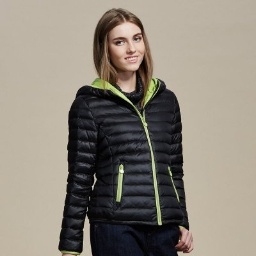face: (93, 7, 156, 86)
